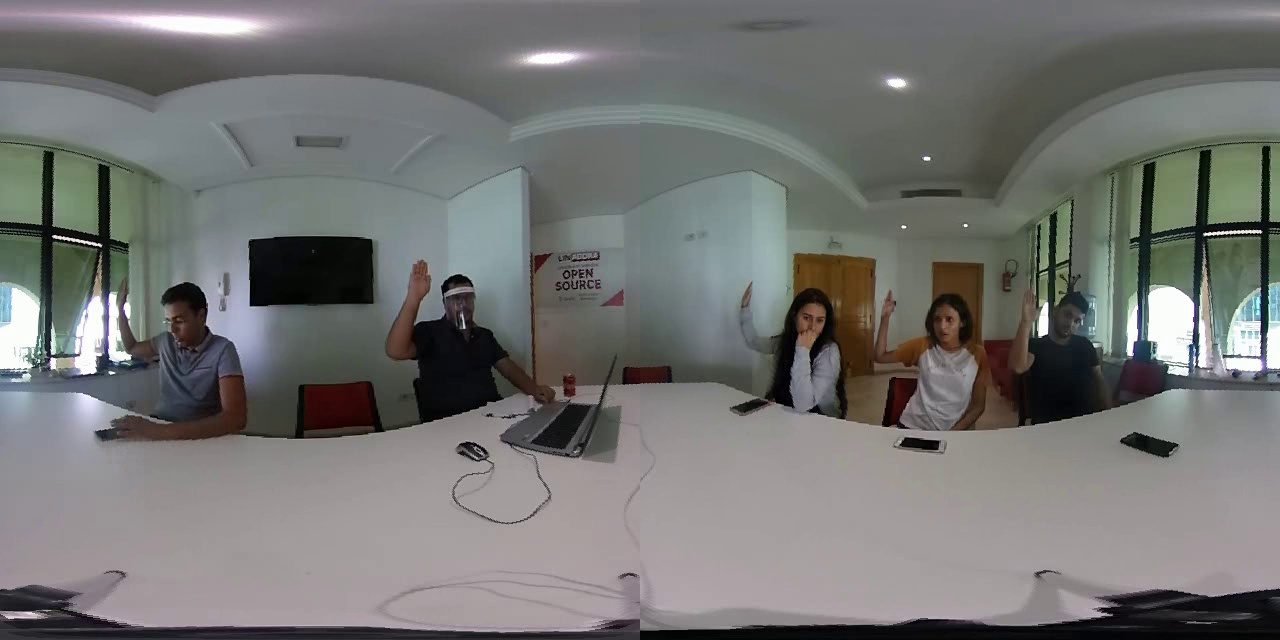person: (373, 250, 557, 422), (99, 274, 259, 448), (727, 266, 865, 428), (872, 285, 993, 431), (1001, 283, 1134, 415)
voting: (378, 247, 438, 373), (105, 272, 160, 375), (734, 277, 781, 356), (868, 293, 911, 366), (1005, 286, 1039, 378)
